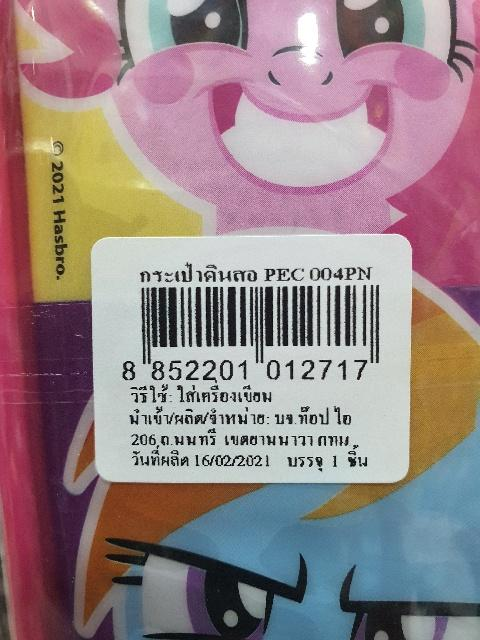Barcode: (117, 279, 398, 381)
